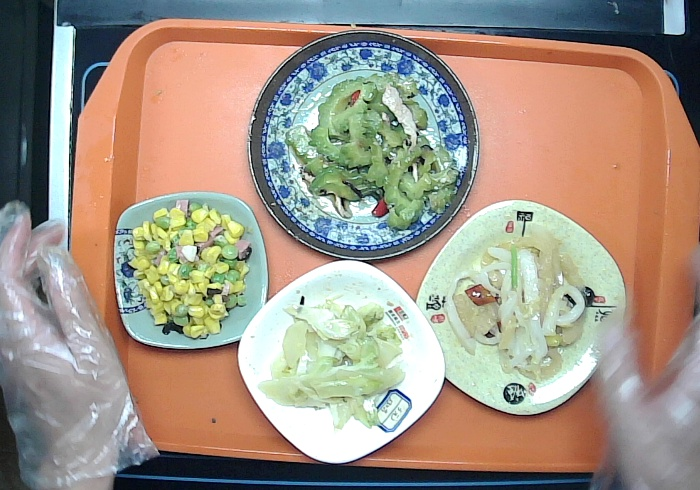NLDX-Bai_Se_Xiao_Fang_Die: (234, 258, 447, 463)
NLDX-Fu_Zi_Fang_Die: (418, 199, 625, 416)
NLDX-Qing_Hua_Xiao_Fang_Die: (111, 191, 265, 349)
NLDX-Qing_Hua_Yuan_Die: (249, 31, 482, 260)
